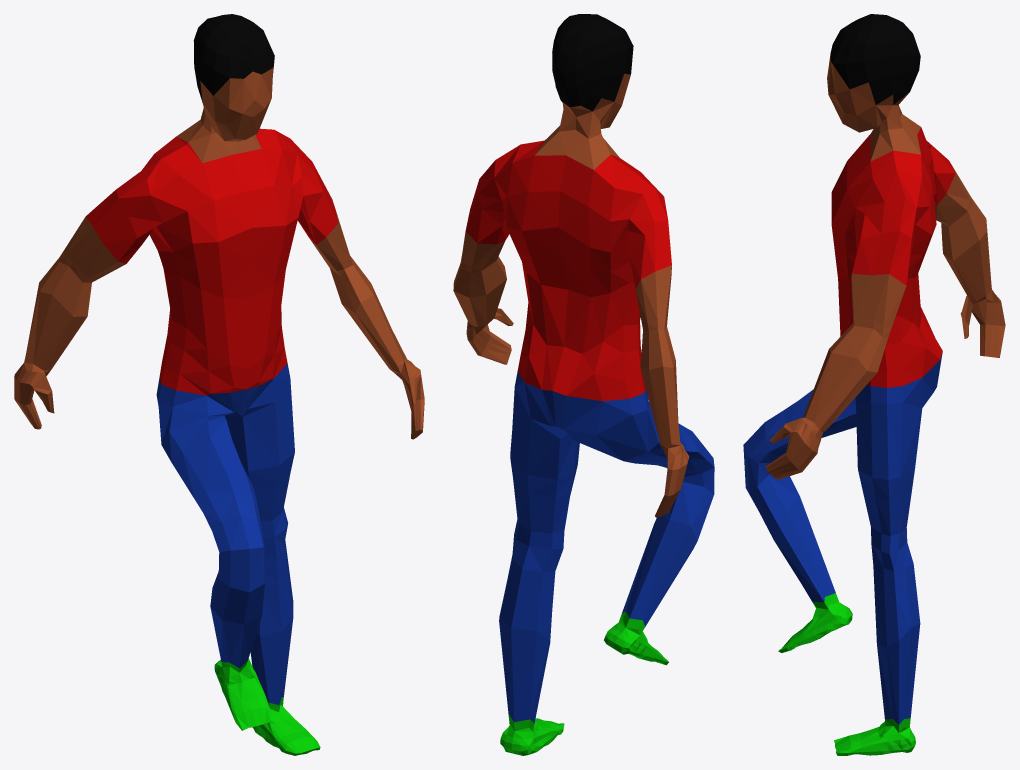
File: Character4.obj
The picture shows the model from 3 angles, left to right: view 1: azimuth 30°, elevation 25°; view 2: azimuth 150°, elevation 25°; view 3: azimuth 270°, elevation 25°; orthographic projection. The views are drawn at different scales.
Visible parts, largest first — view 1: Cube_Cube.002; view 2: Cube_Cube.002; view 3: Cube_Cube.002.
Boxes of the visible parts, x1=… form: Cube_Cube.002: x1=14, y1=14, x2=424, y2=755; Cube_Cube.002: x1=453, y1=14, x2=714, y2=755; Cube_Cube.002: x1=743, y1=14, x2=1005, y2=755.
Bounding box in the file's own units: 0.7751 × 1.76 × 0.5922.
